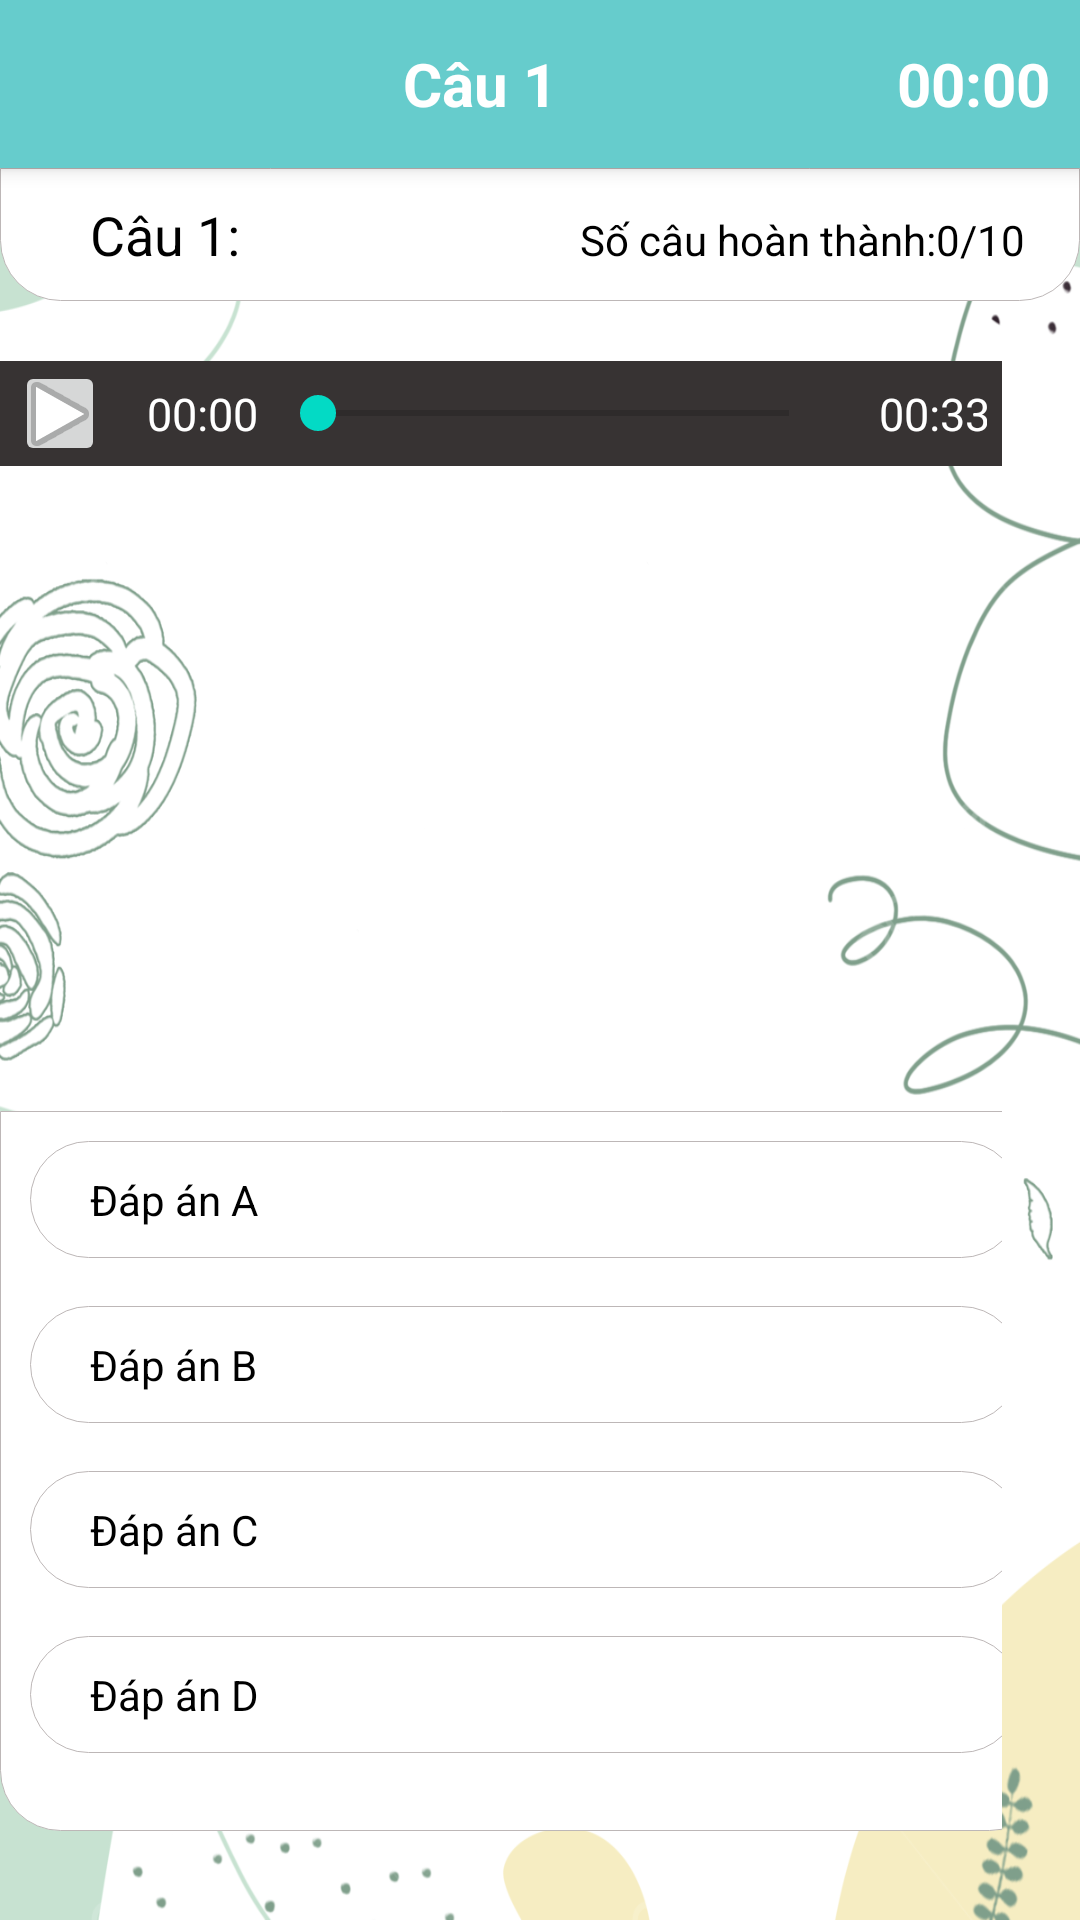

Locate icon controls on the screen. Image size 1080w x 1920h, boxes as (x1, y1, x2, y2).
play: (27, 379, 93, 448)
